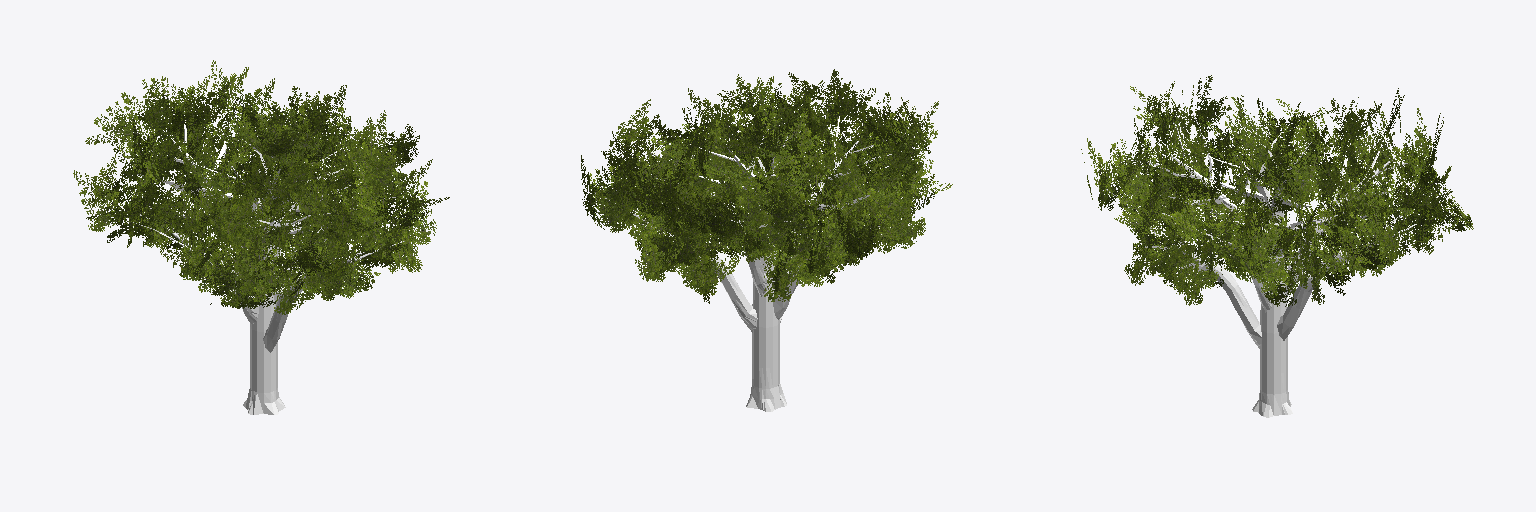
3 views of the same model, side by side, from view 1: azimuth 30°, elevation 25°; view 2: azimuth 150°, elevation 25°; view 3: azimuth 270°, elevation 25° (orthographic).
Parts seen in each view (by area): view 1: Foliage__leafcard, Bark; view 2: Foliage__leafcard, Bark; view 3: Foliage__leafcard, Bark.
Part boxes in pixels (x1,y1,x2,y2): Foliage__leafcard: (73,60,449,314); Bark: (125,111,404,414); Foliage__leafcard: (581,69,952,303); Bark: (595,106,905,411); Foliage__leafcard: (1081,75,1473,306); Bark: (1106,109,1432,417).
Size of the model in its own units: 26.07 by 22.5 by 26.93.
2 materials, 1 textured.